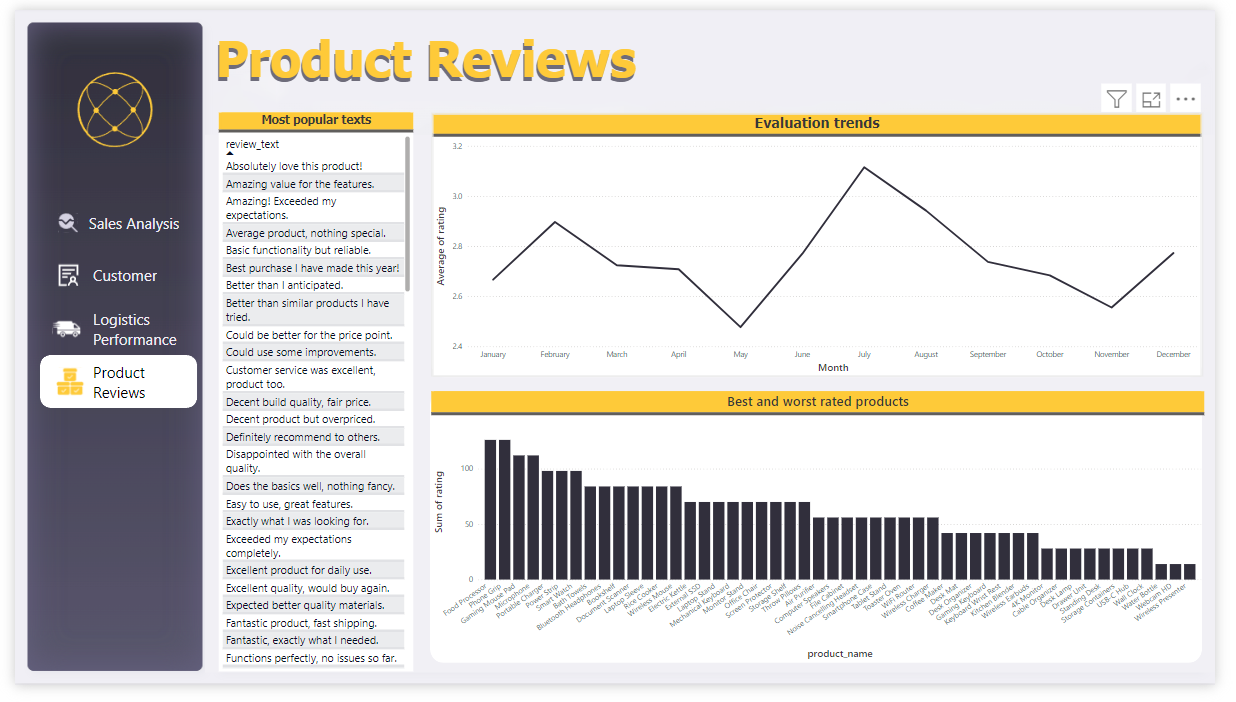

What the dashboard file says about the page in this screenshot:
{"tool":"powerbi","page":{"name":"Product Reviews  🌟","canvas":[1920,1080],"ordinal":3},"visuals":[{"type":"group","id":"g1","title":"Group 4","box":[313.4,21.7,960,126.8],"z":0},{"type":"textbox","title":"Title","box":[313.4,27.1,940.2,120.7],"z":0,"group":"g1"},{"type":"shape","box":[664.8,610.4,1235.3,434.7],"z":0,"group":"g3"},{"type":"textbox","title":"Title","box":[315.2,21.7,958.2,117.7],"z":1000,"group":"g1"},{"type":"group","id":"g2","title":"Group 1","box":[326,163,311.5,894.8],"z":1000},{"type":"tableEx","title":"Most popular texts","fields":{"Values":["reviews.review_text"]},"box":[326,163,311.5,894.8],"z":1000,"group":"g2"},{"type":"shape","box":[666.6,163,1233.5,423.8],"z":1000,"group":"g4"},{"type":"columnChart","title":"Best and worst rated products","fields":{"Category":["products.product_name"],"Y":["Sum(reviews.rating)"]},"box":[666.6,610.4,1237.1,434.7],"z":1000,"group":"g3"},{"type":"lineChart","title":"Evaluation trends","fields":{"Y":["Avg(reviews.rating)"],"Category":["reviews.review_date.Variation.Date Hierarchy.Month"]},"box":[668.9,165,1230.4,420.8],"z":2000,"group":"g4"},{"type":"group","id":"g3","title":"Group 2","box":[664.8,610.4,1238.9,434.7],"z":2000},{"type":"group","id":"g4","title":"Group 3","box":[666.6,163,1233.5,423.8],"z":3000},{"type":"actionButton","title":"Ratios_active","box":[39.6,553.3,251.7,84.8],"z":3000,"group":"g5"},{"type":"group","id":"g5","title":"Buttons Menu","box":[39.6,299,252.2,507.9],"z":4000},{"type":"actionButton","title":"Expenses","box":[40.1,468.7,251.7,84.8],"z":4000,"group":"g5"},{"type":"actionButton","title":"Revenue","box":[39.6,383.9,251.7,84.8],"z":6000,"group":"g5"},{"type":"actionButton","title":"Overview","box":[39.6,299,251.7,84.6],"z":8000,"group":"g5"}]}

Visuals, with their boxes on the page's 1920x1080 design canvas (x1, y1, x2, y2). These are canvas units, not pixel positions in the 1236x702 screenshot, which may show the page scaled, cropped or inside an application window:
"Group 4" group: <bbox>313, 22, 1273, 148</bbox>
"Title" textbox: <bbox>313, 27, 1254, 148</bbox>
shape: <bbox>665, 610, 1900, 1045</bbox>
"Title" textbox: <bbox>315, 22, 1273, 139</bbox>
"Group 1" group: <bbox>326, 163, 638, 1058</bbox>
"Most popular texts" tableEx: <bbox>326, 163, 638, 1058</bbox>
shape: <bbox>667, 163, 1900, 587</bbox>
"Best and worst rated products" columnChart: <bbox>667, 610, 1904, 1045</bbox>
"Evaluation trends" lineChart: <bbox>669, 165, 1899, 586</bbox>
"Group 2" group: <bbox>665, 610, 1904, 1045</bbox>
"Group 3" group: <bbox>667, 163, 1900, 587</bbox>
"Ratios_active" actionButton: <bbox>40, 553, 291, 638</bbox>
"Buttons Menu" group: <bbox>40, 299, 292, 807</bbox>
"Expenses" actionButton: <bbox>40, 469, 292, 554</bbox>
"Revenue" actionButton: <bbox>40, 384, 291, 469</bbox>
"Overview" actionButton: <bbox>40, 299, 291, 384</bbox>
